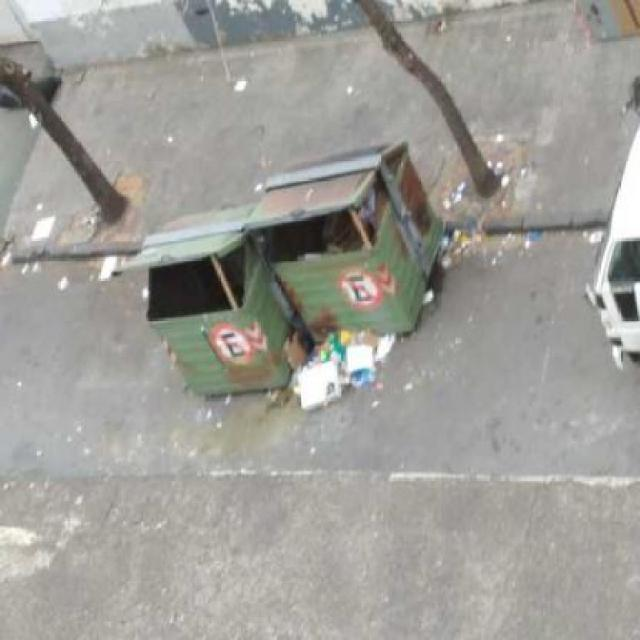garbage: (283, 325, 382, 423), (431, 192, 489, 274), (92, 248, 136, 300), (23, 209, 64, 264)
